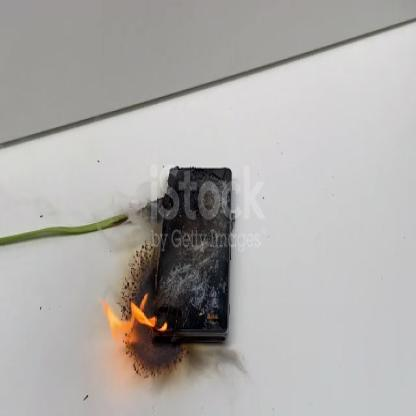fire: (100, 289, 170, 359)
smoke: (88, 156, 177, 250)
